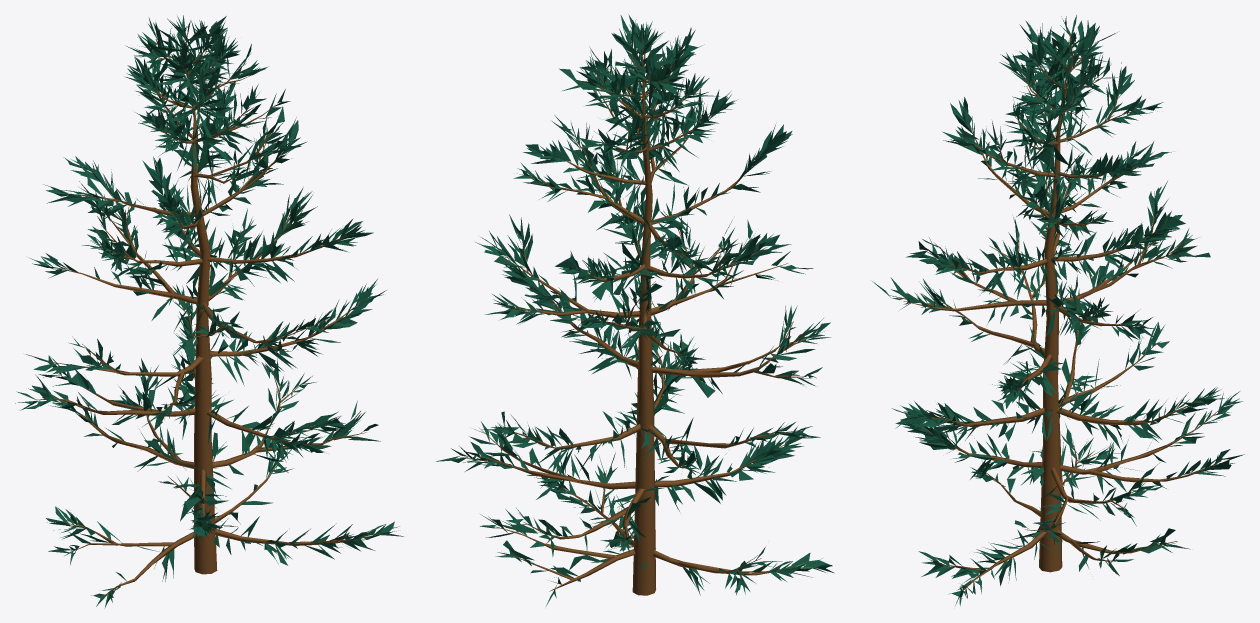
The model's file is tree1.fbx.
3 renders of one model, left to right at view 1: azimuth 30°, elevation 25°; view 2: azimuth 150°, elevation 25°; view 3: azimuth 270°, elevation 25°, orthographic. The views are drawn at different scales.
Parts seen in each view (by area): view 1: tree; view 2: tree; view 3: tree.
Part boxes in pixels (x1=…): tree: x1=15, y1=15, x2=403, y2=608; tree: x1=435, y1=14, x2=834, y2=606; tree: x1=872, y1=15, x2=1244, y2=606.
Bounding box in the file's own units: 328 × 505 × 317.
